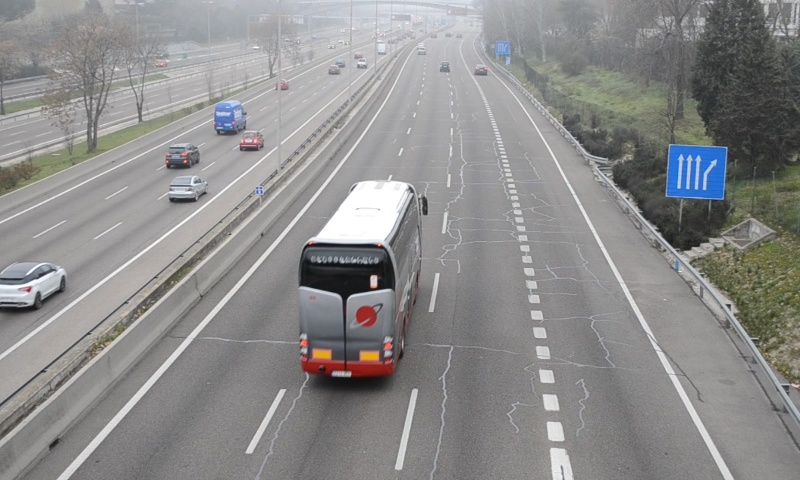bus: (298, 180, 423, 380)
car: (474, 63, 488, 76), (438, 60, 451, 73)
